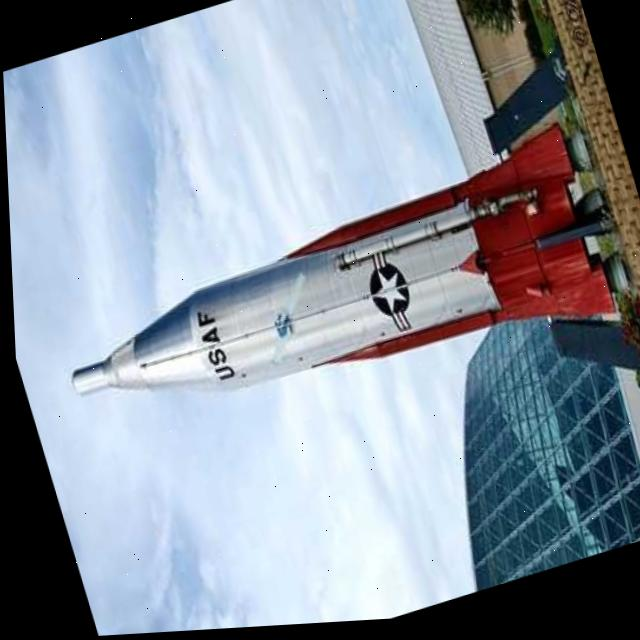missile: (27, 120, 635, 480)
